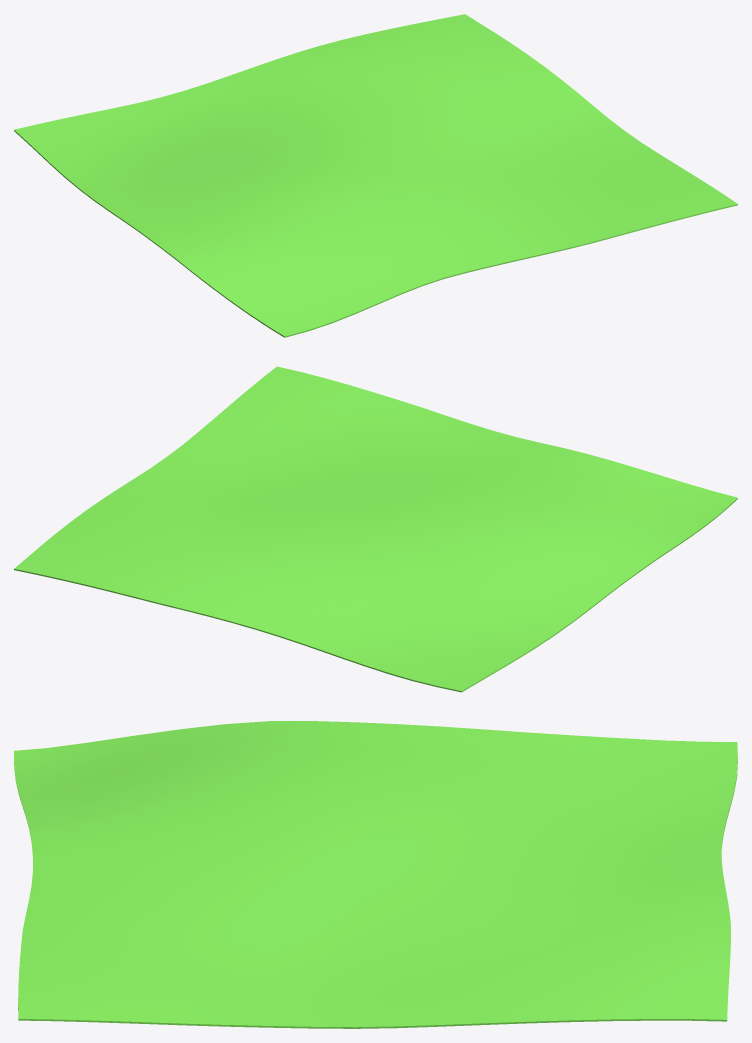
Rendered from alcohol wipe 1.fbx.
3 renders of one model, top to bottom at view 1: azimuth 30°, elevation 25°; view 2: azimuth 150°, elevation 25°; view 3: azimuth 270°, elevation 25°, orthographic. The views are drawn at different scales.
Visible parts, largest first — view 1: alcohol wipe sheet.001; view 2: alcohol wipe sheet.001; view 3: alcohol wipe sheet.001.
Part boxes in pixels (x1,y1,x2,y2): alcohol wipe sheet.001: (14,14,737,337); alcohol wipe sheet.001: (14,366,737,692); alcohol wipe sheet.001: (14,721,737,1028).
Bounding box in the file's own units: 0.0752 × 0.00401 × 0.0753.
